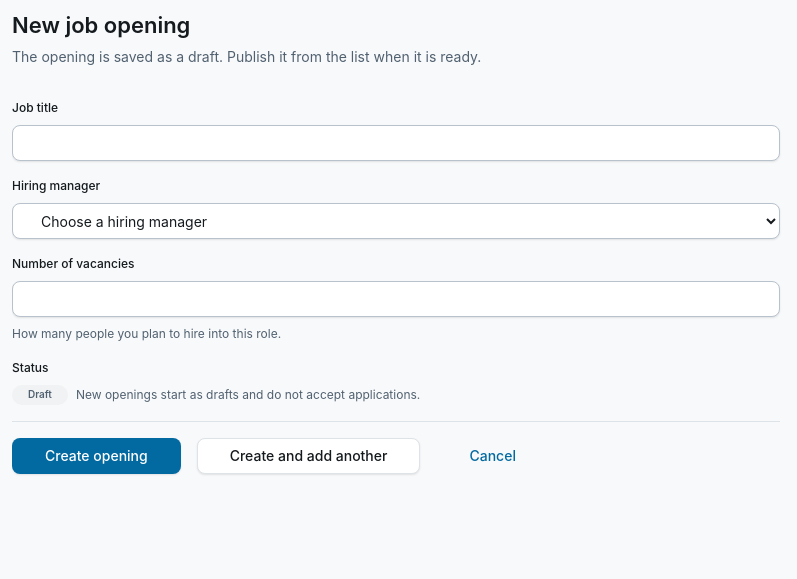
Scenario: NewOpeningPage › surfaces an API refusal and keeps the input
Type "Product designer" into the field labelled "Job title" at coordinates (396, 143), box x1=12 y1=125 x2=780 y2=161
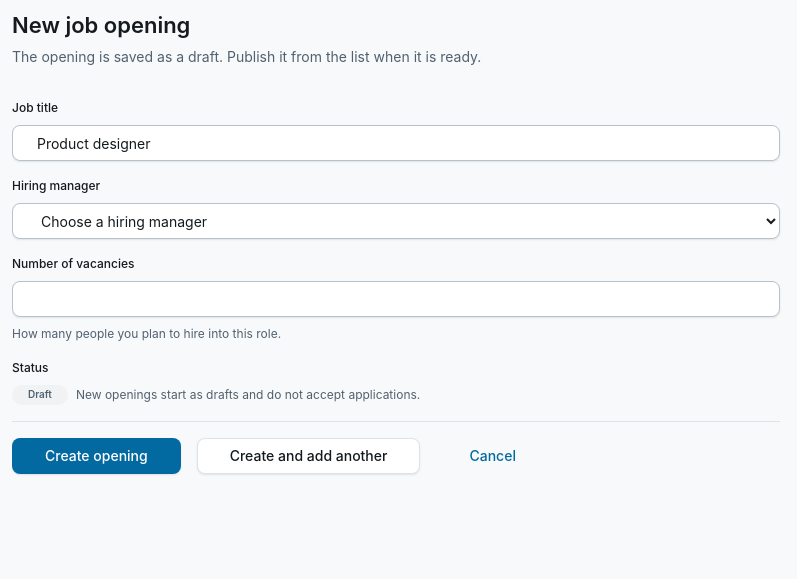
Select "Amara Okafor" in the dropdown labelled "Hiring manager" at coordinates (396, 221), box x1=12 y1=203 x2=780 y2=239
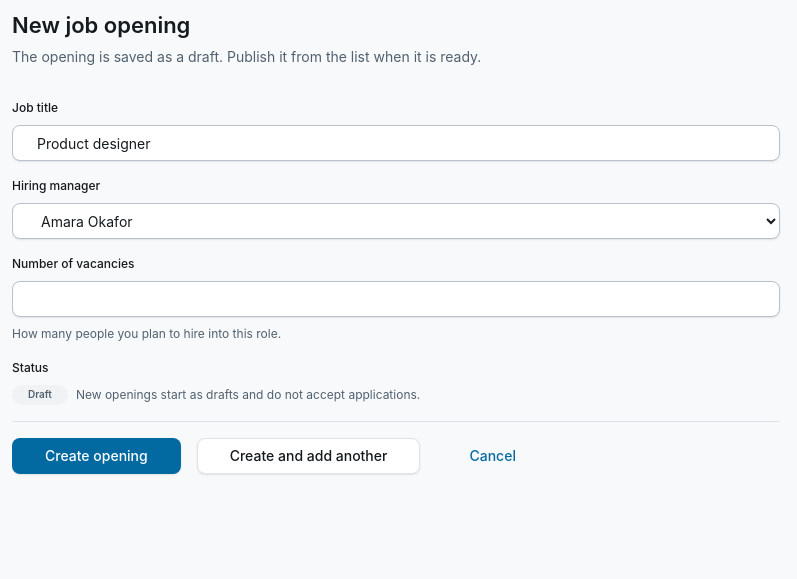
Type "1" into the number field labelled "Number of vacancies" at coordinates (396, 299), box x1=12 y1=281 x2=780 y2=317
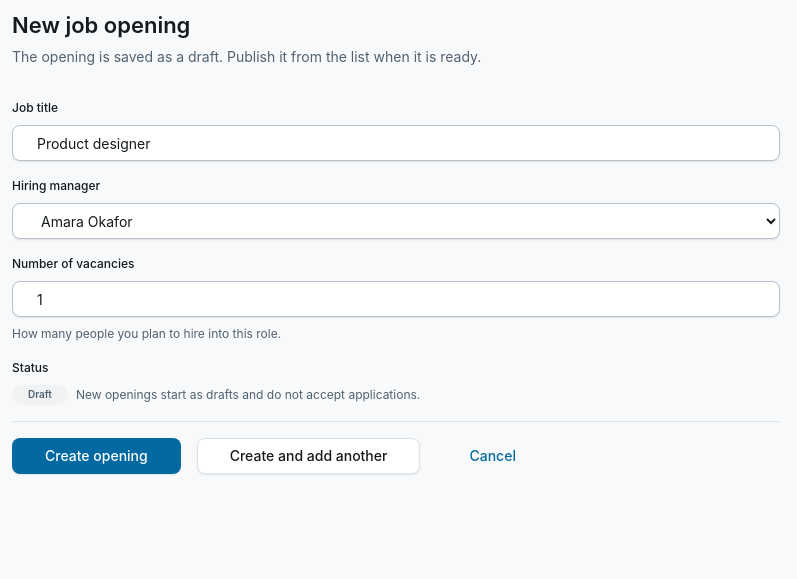
Click the button "Create opening" at coordinates (96, 456), box x1=12 y1=438 x2=181 y2=474
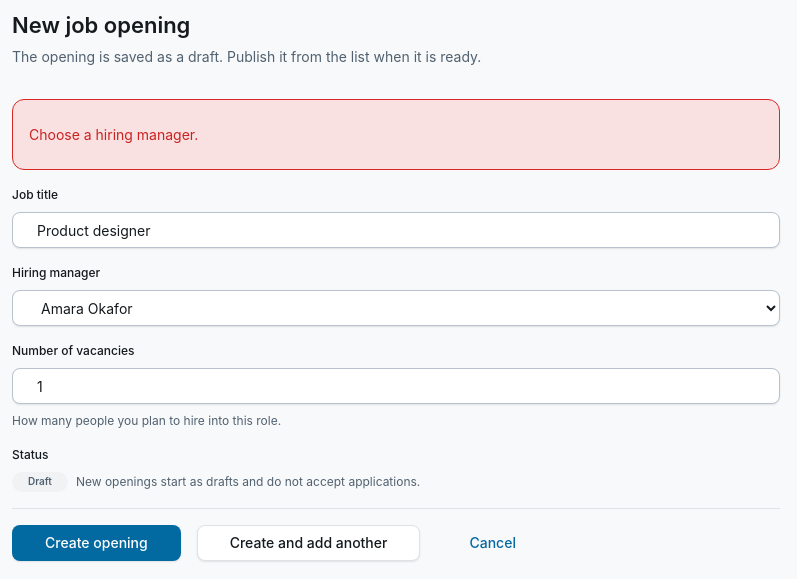
Check: the message reads "Choose a hiring manager.", box x1=29 y1=126 x2=198 y2=143
